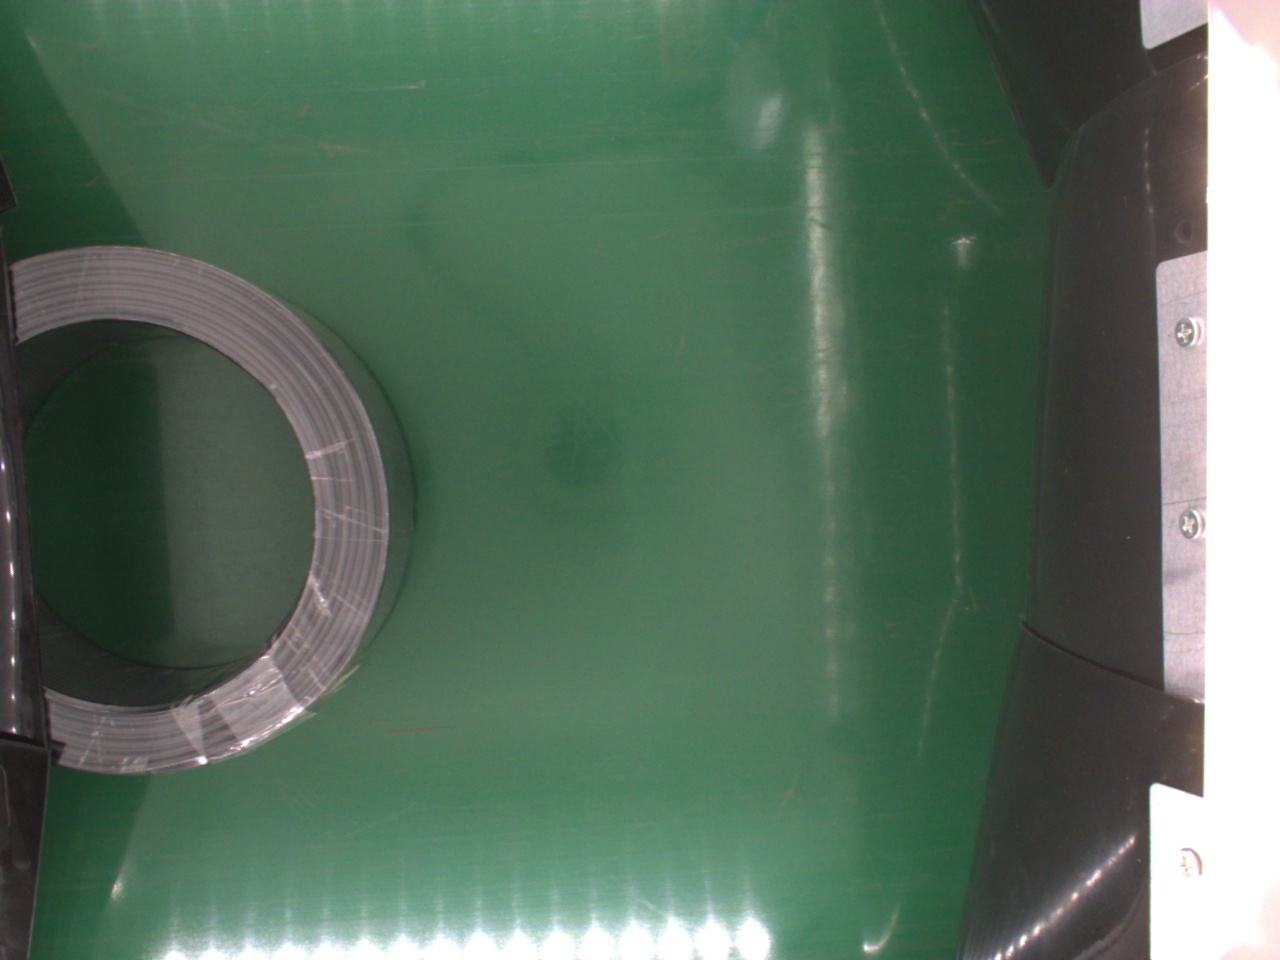black: (9, 244, 411, 774)
